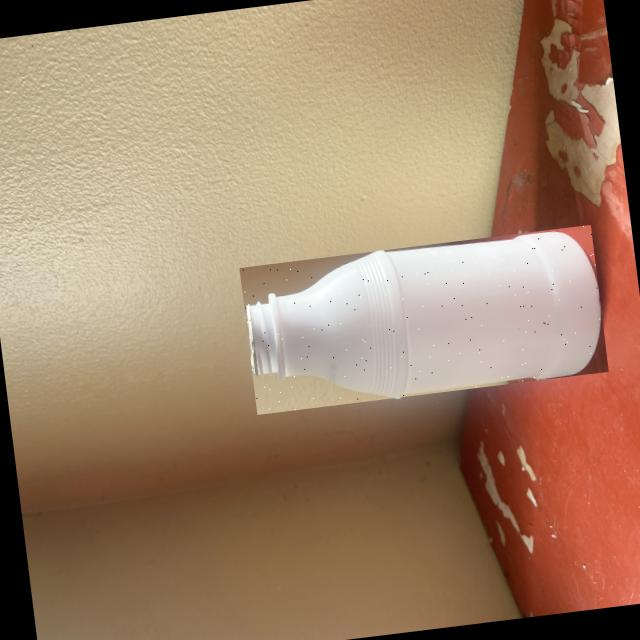HDPE_Bottle: (247, 231, 600, 396)
